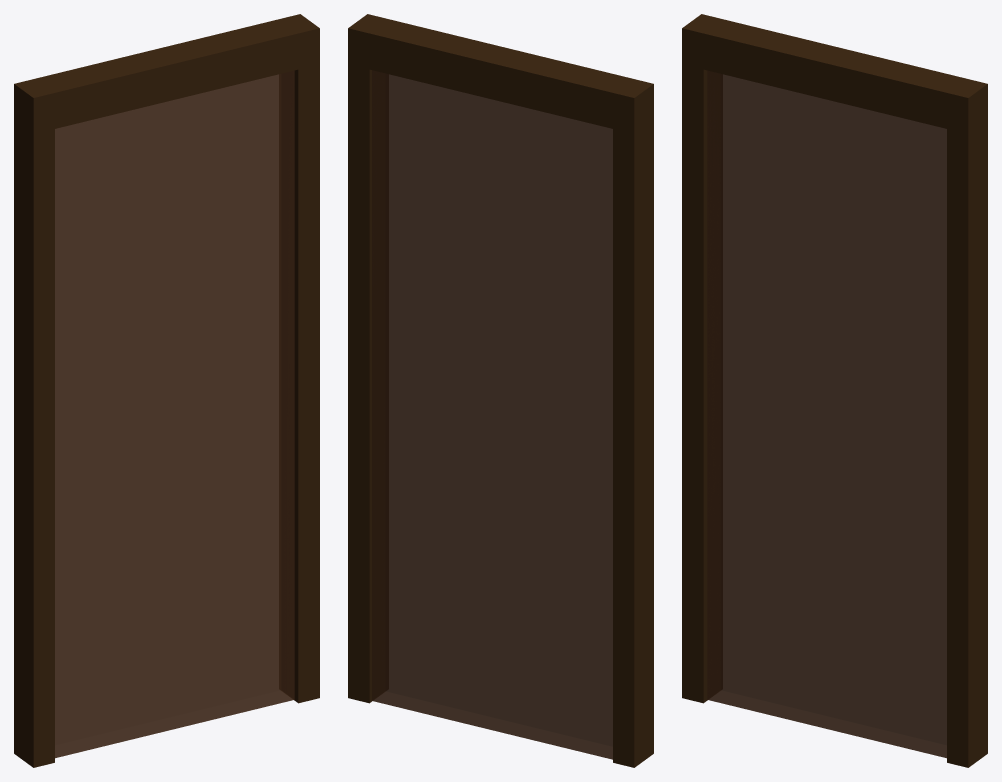
The model's file is doors.glb.
3 views of the same model, side by side, from view 1: azimuth 30°, elevation 25°; view 2: azimuth 150°, elevation 25°; view 3: azimuth 330°, elevation 25° (orthographic).
Parts seen in each view (by area): view 1: Cube.001, Cube; view 2: Cube.001, Cube; view 3: Cube.001, Cube.
Part boxes in pixels (x1,y1,x2,y2): Cube.001: (55,70,294,758); Cube: (14,14,319,767); Cube.001: (372,70,612,759); Cube: (348,14,653,767); Cube.001: (707,70,946,758); Cube: (682,14,987,767).
Size of the model in its own units: 1.55 by 3.47 by 0.1833.
